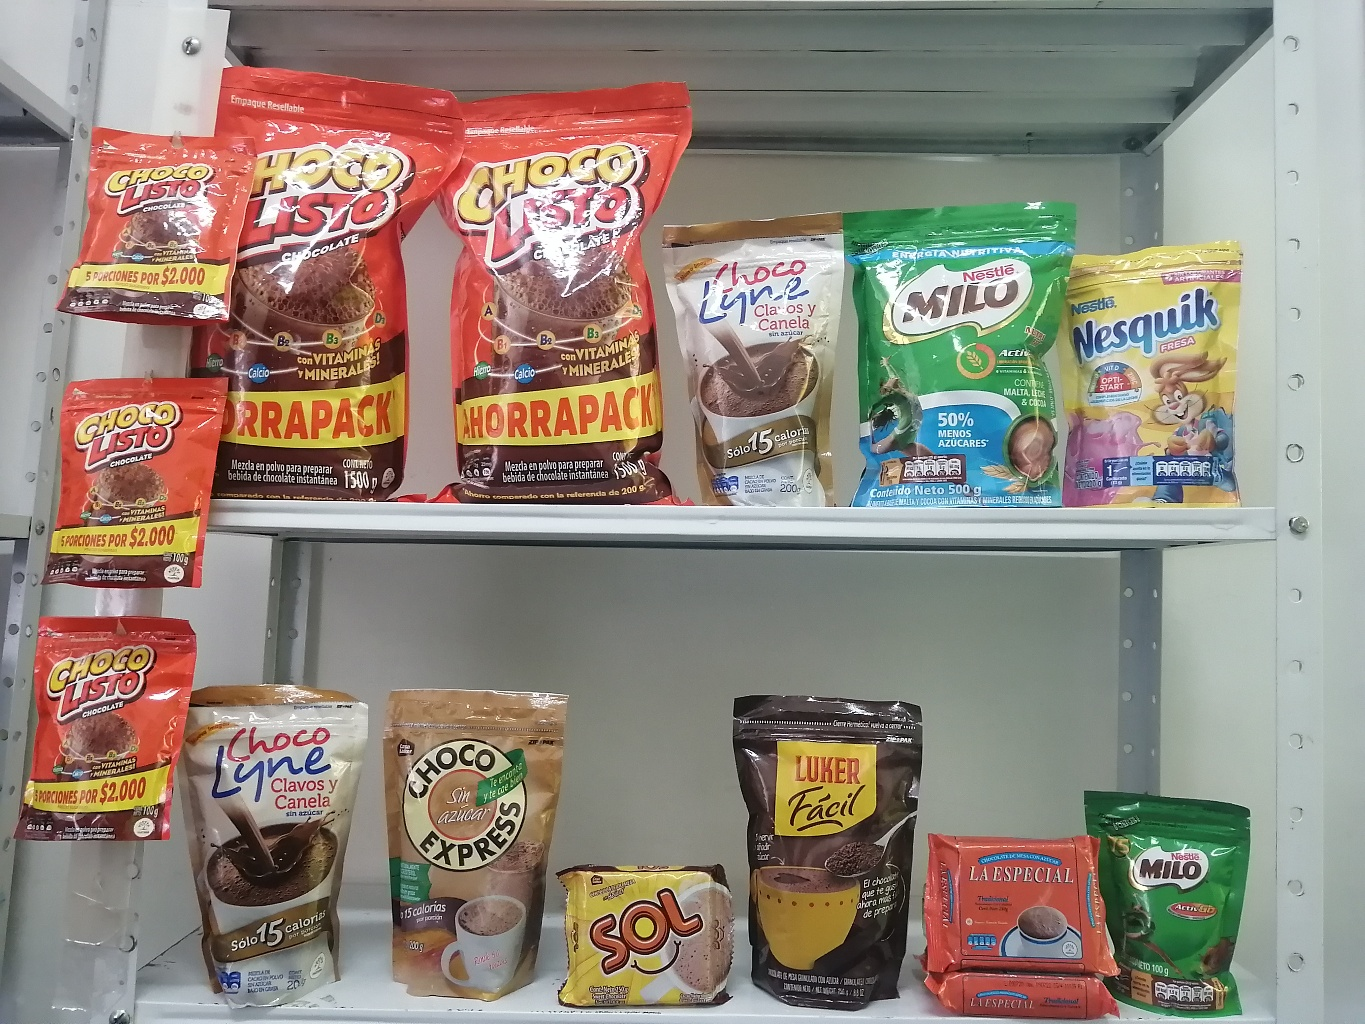COL0170103DYP1,500: (413, 58, 713, 520)
COL0170203DYP10000: (1068, 758, 1261, 1015)
COL0170205DYP50000: (823, 187, 1077, 513)
COL0170305DYP20000: (1064, 228, 1271, 508)
